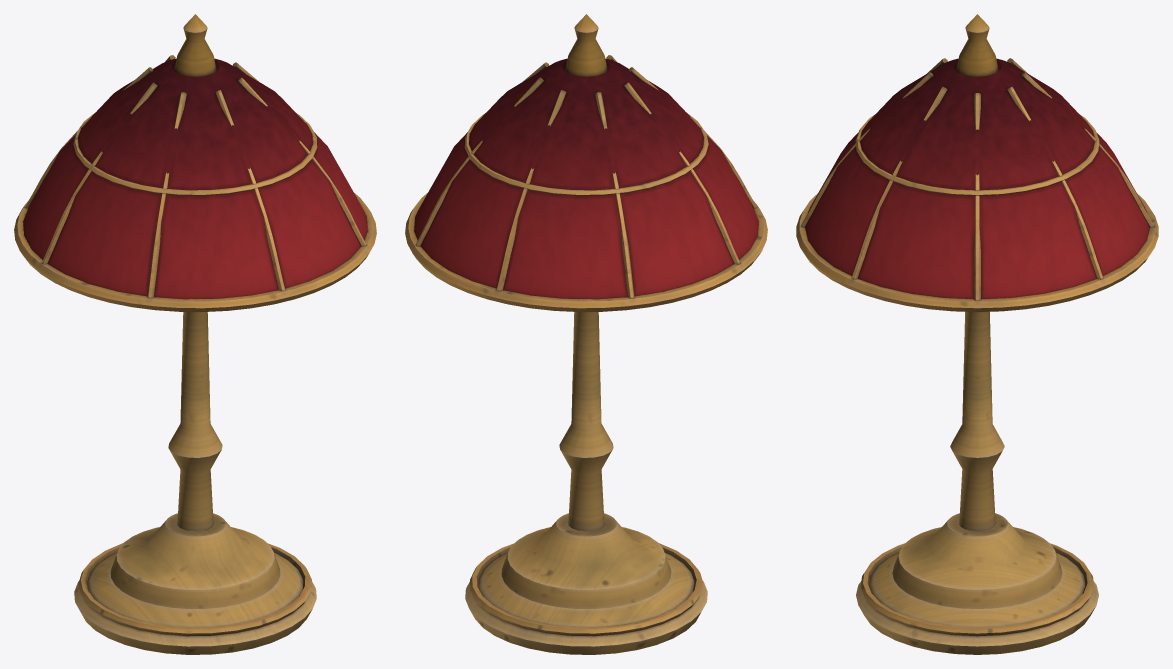
The model's file is DeskLamp.fbx.
3 renders of one model, left to right at view 1: azimuth 30°, elevation 25°; view 2: azimuth 150°, elevation 25°; view 3: azimuth 270°, elevation 25°, orthographic.
Parts seen in each view (by area): view 1: DeskLamp_Main; view 2: DeskLamp_Main; view 3: DeskLamp_Main.
Part boxes in pixels (x1=…): DeskLamp_Main: x1=14, y1=14, x2=376, y2=654; DeskLamp_Main: x1=405, y1=14, x2=767, y2=654; DeskLamp_Main: x1=796, y1=14, x2=1158, y2=654.
Bounding box in the file's own units: 119 × 215 × 119.
